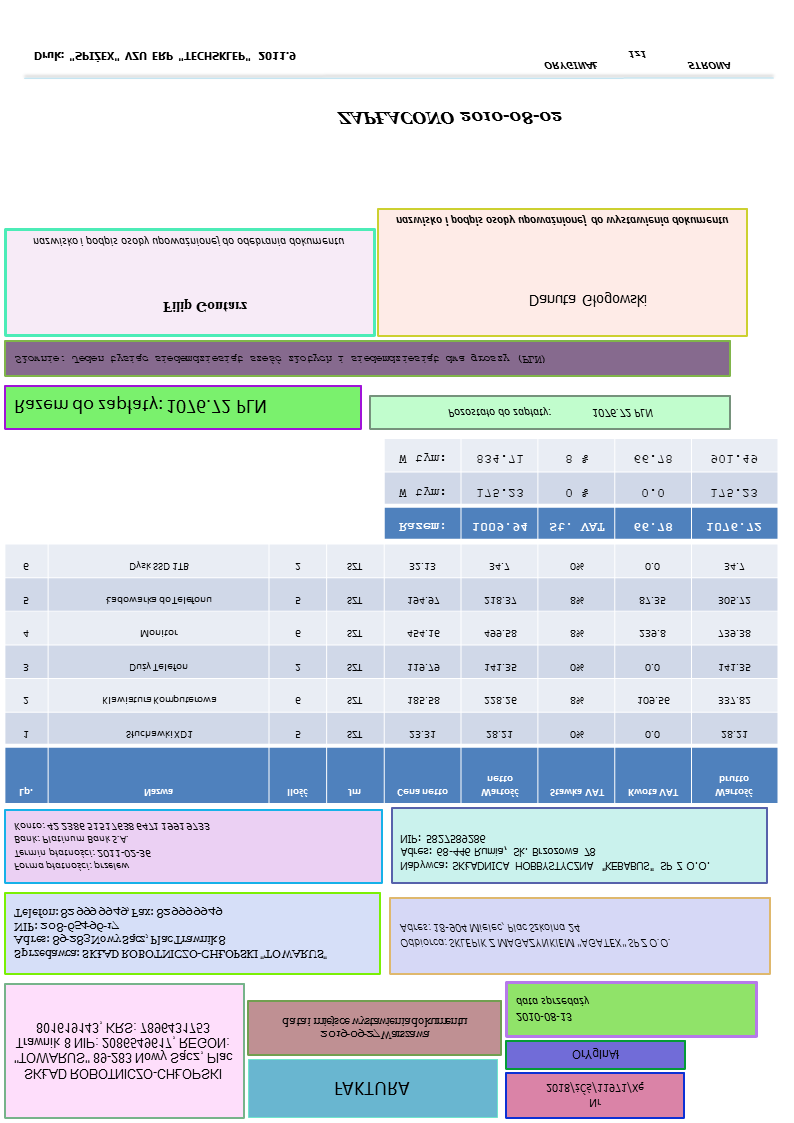Table: (3, 543, 777, 805), (383, 438, 780, 540)
TextBox: (10, 904, 329, 963), (11, 1020, 235, 1082), (397, 832, 714, 874), (11, 818, 212, 874), (397, 920, 673, 950), (12, 352, 546, 367), (13, 395, 268, 418), (279, 1014, 472, 1042), (393, 214, 730, 230), (332, 107, 565, 128), (30, 234, 346, 249), (542, 48, 734, 72), (32, 48, 299, 64), (446, 405, 656, 421), (543, 1079, 647, 1109), (513, 994, 592, 1025), (527, 289, 648, 309), (331, 1077, 411, 1099), (160, 298, 249, 316), (569, 1046, 621, 1064)
